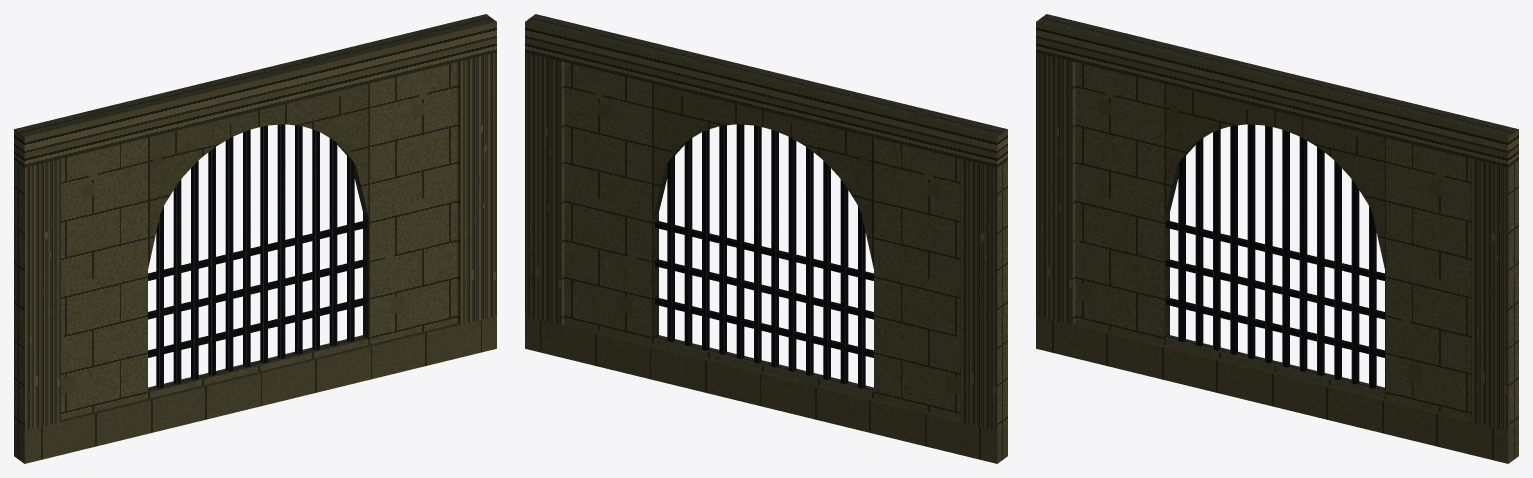
The model's file is marble_bars.glb.
3 views of the same model, side by side, from view 1: azimuth 30°, elevation 25°; view 2: azimuth 150°, elevation 25°; view 3: azimuth 330°, elevation 25° (orthographic).
Visible parts, largest first — view 1: MarbleBars; view 2: MarbleBars; view 3: MarbleBars.
Boxes of the visible parts, x1,y1,x2,y2 form: MarbleBars: (14, 14, 496, 463); MarbleBars: (525, 14, 1007, 463); MarbleBars: (1036, 14, 1518, 463).
Size of what is drawn, in the model's own units: 12.85 by 8.5 by 0.5.
Materials: 7 (7 with a texture image).
